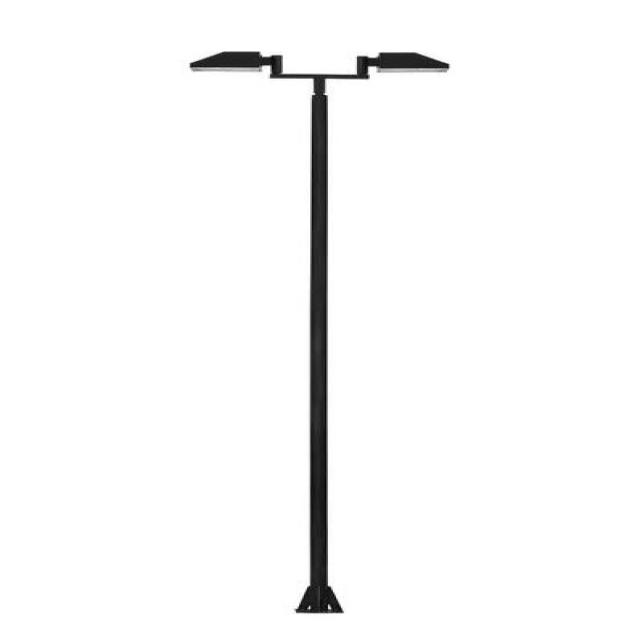Pole: (191, 51, 449, 614)
